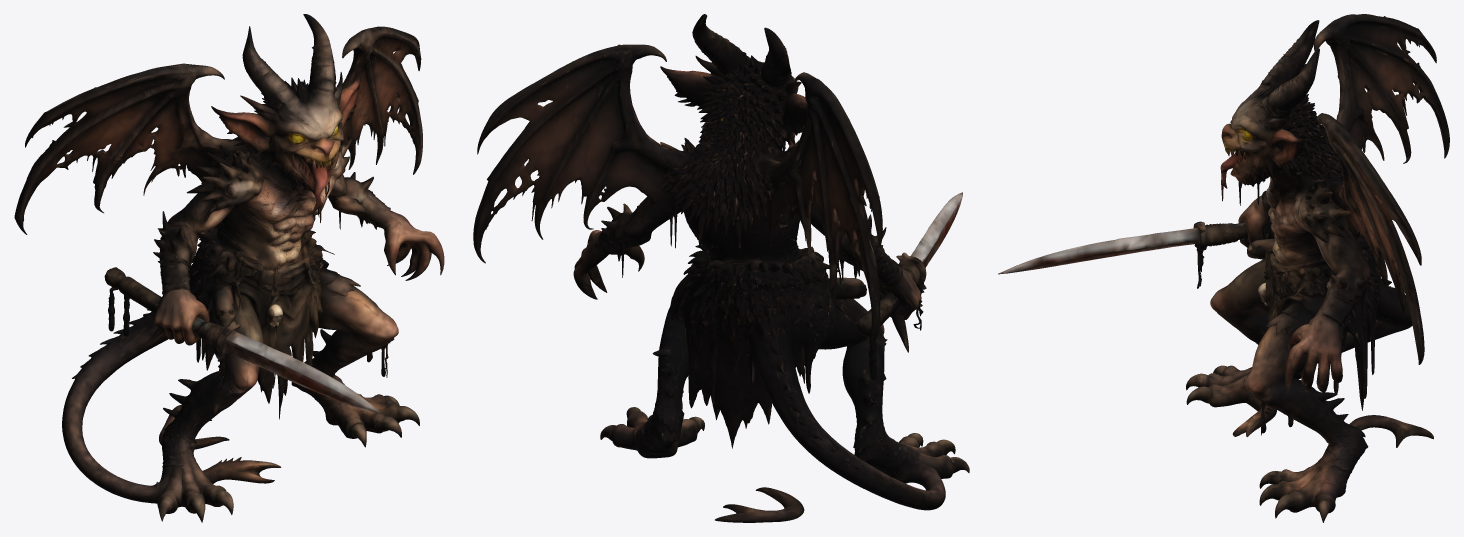
Rendered from imp.glb.
The picture shows the model from 3 angles, left to right: view 1: azimuth 30°, elevation 25°; view 2: azimuth 150°, elevation 25°; view 3: azimuth 270°, elevation 25°; orthographic projection. The views are drawn at different scales.
Visible parts, largest first — view 1: material; view 2: material; view 3: material.
Boxes of the visible parts, left/top/right/bottom form: material: left=14, top=14, right=444, bottom=522; material: left=473, top=14, right=969, bottom=522; material: left=998, top=14, right=1449, bottom=522.
Bounding box in the file's own units: 0.8433 × 0.8721 × 0.8269.
1 material, 1 textured.
